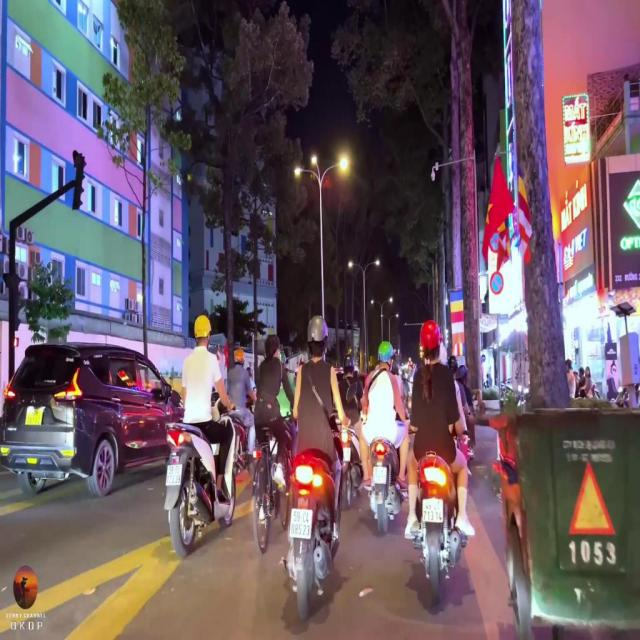cam_do_xe: (490, 271, 504, 295)
cam_dung_xe_va_do_xe: (489, 229, 499, 253)
